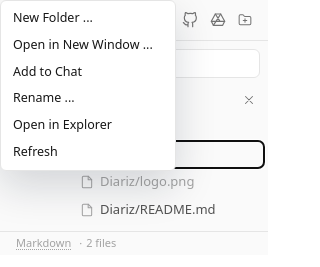
it: the workspace menu › add to chat › adds the file whose menu was opened
The width and height of the screenshot is (320, 267).
Click the menu item "Add to Chat": click(88, 72) left=5, top=58, right=171, bottom=85
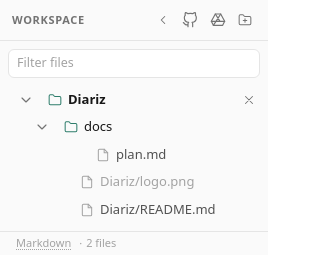
Now the menu is gone
